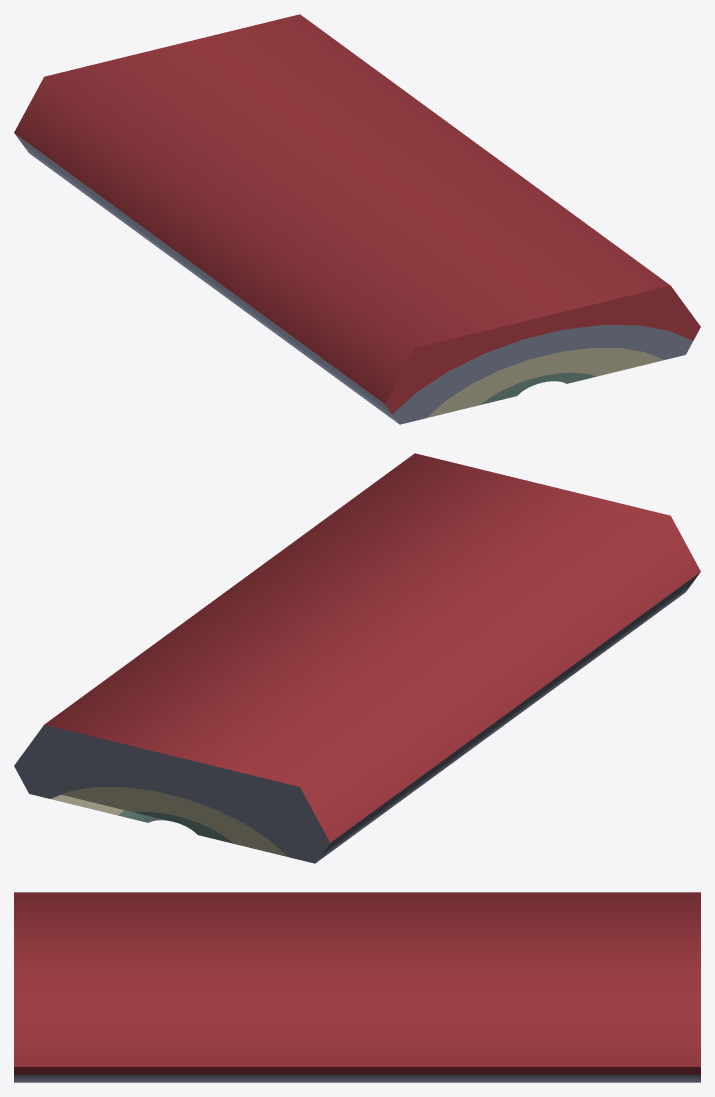
Rendered from Junk1.fbx.
The picture shows the model from 3 angles, top to bottom: view 1: azimuth 30°, elevation 25°; view 2: azimuth 150°, elevation 25°; view 3: azimuth 270°, elevation 25°; orthographic projection. The views are drawn at different scales.
Parts seen in each view (by area): view 1: Model; view 2: Model; view 3: Model.
Boxes of the visible parts, left/top/right/bottom form: Model: left=14, top=14, right=700, bottom=424; Model: left=14, top=453, right=700, bottom=863; Model: left=14, top=892, right=700, bottom=1082.
Bounding box in the file's own units: 81.36 × 17.93 × 165.
